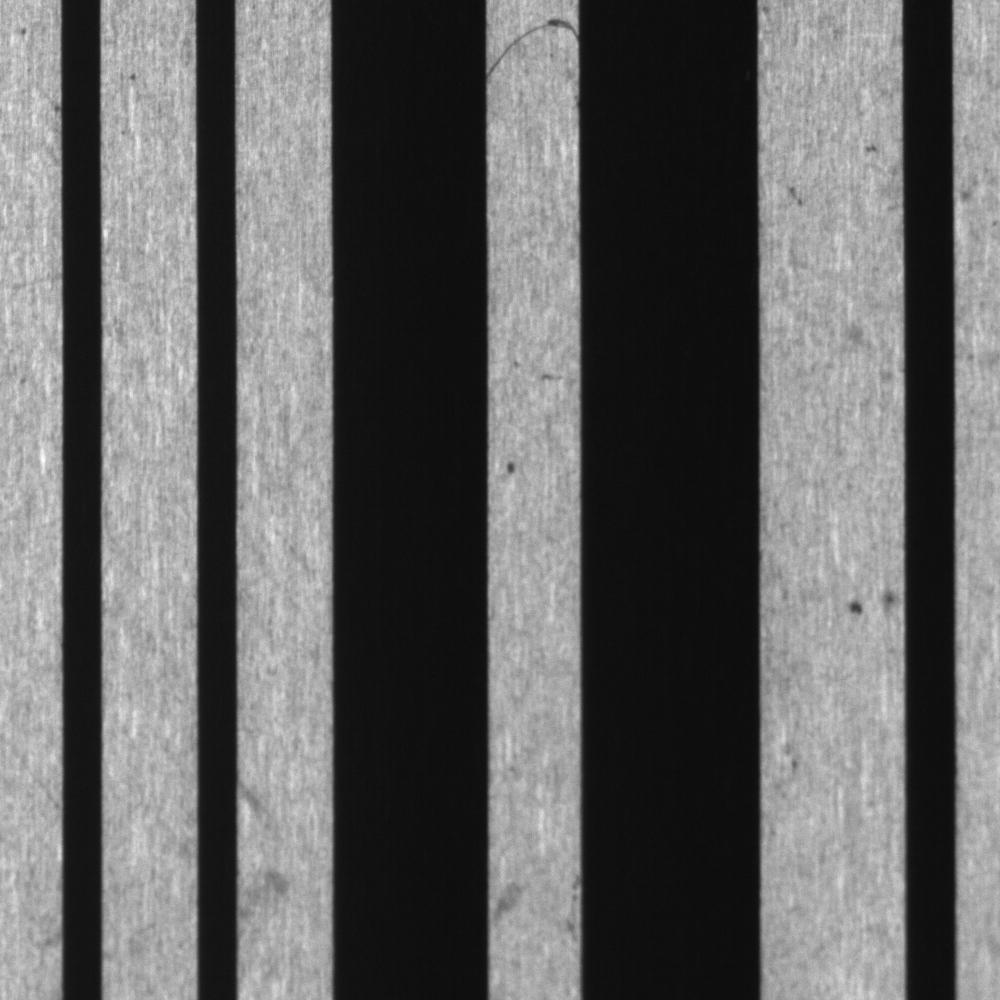Etching: (839, 303, 905, 409), (858, 127, 902, 232), (502, 346, 578, 401), (841, 577, 901, 628), (774, 175, 816, 217)
Pinhole: (497, 444, 527, 493)
Scar: (485, 5, 579, 93)
